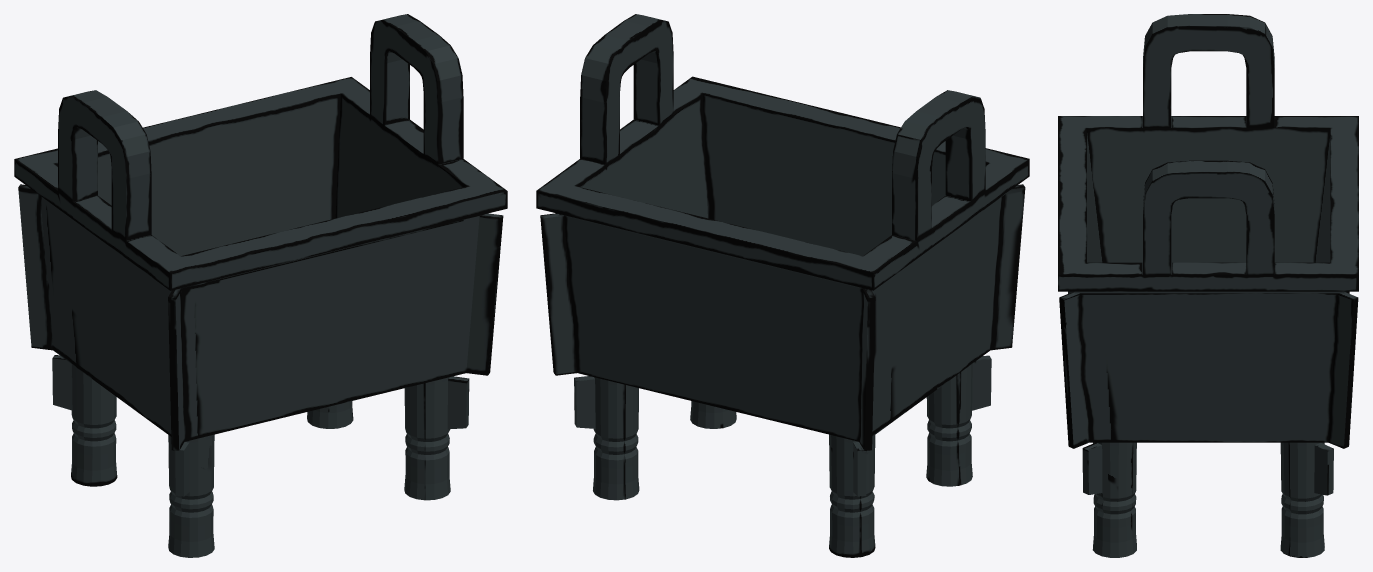
The model's file is Tripod.fbx.
3 renders of one model, left to right at view 1: azimuth 30°, elevation 25°; view 2: azimuth 150°, elevation 25°; view 3: azimuth 270°, elevation 25°, orthographic. The views are drawn at different scales.
Parts seen in each view (by area): view 1: Tripod; view 2: Tripod; view 3: Tripod.
Part boxes in pixels (x1,y1,x2,y2): Tripod: (14,14,507,557); Tripod: (536,14,1029,557); Tripod: (1058,14,1358,557).
Bounding box in the file's own units: 348 × 409 × 279.
Materials: 1 (1 with a texture image).
